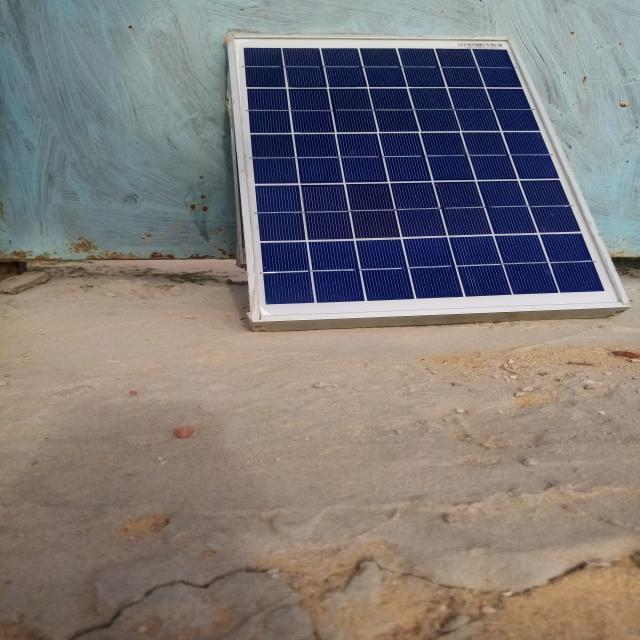no faulty: (230, 34, 634, 322)
